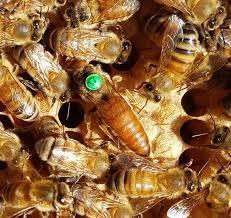Queen-Bee: (62, 53, 163, 160)
worker-bee: (138, 23, 207, 107), (97, 160, 214, 202), (11, 42, 81, 106), (51, 21, 135, 68), (40, 131, 118, 179), (70, 172, 145, 218), (0, 54, 38, 128), (0, 177, 75, 213), (0, 13, 53, 39)
